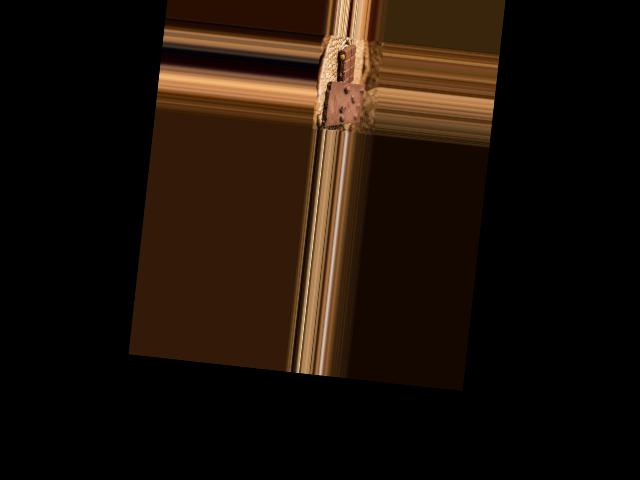chocolate: (321, 77, 366, 130)
